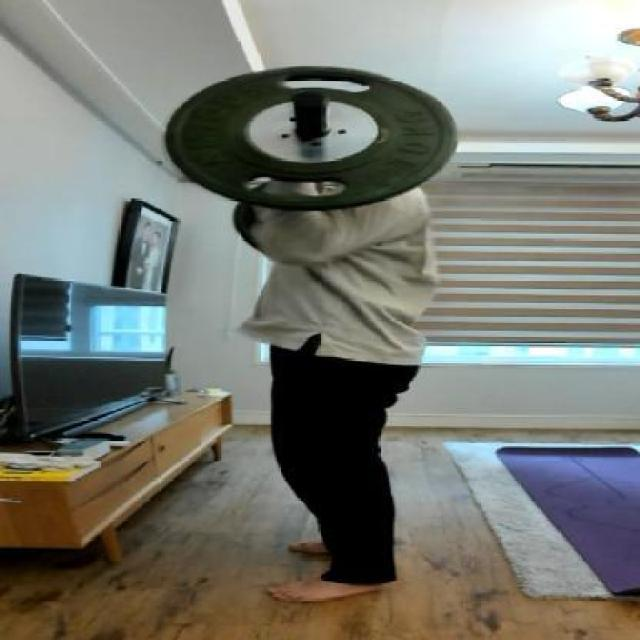barbell: (159, 62, 462, 216)
